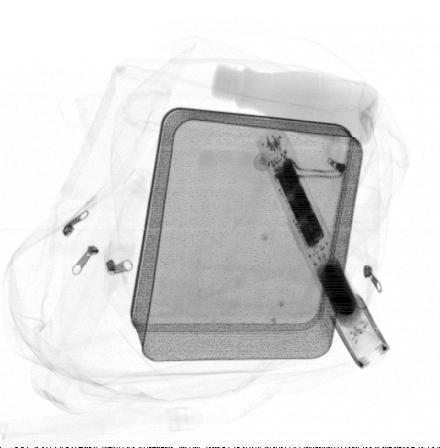Baton: (254, 121, 391, 373)
